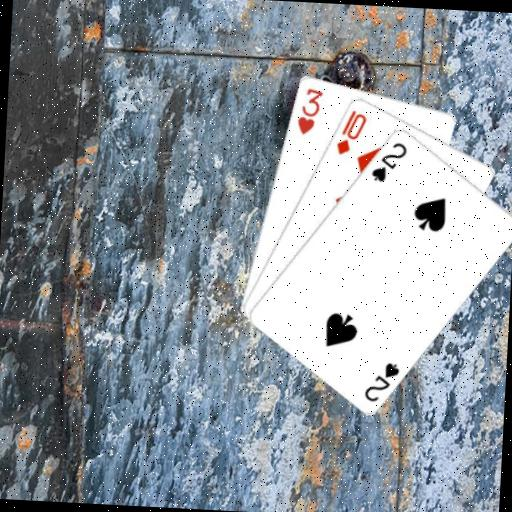10D: (333, 106, 369, 158)
2S: (368, 138, 409, 185), (360, 357, 401, 404)
3H: (294, 84, 325, 136)
